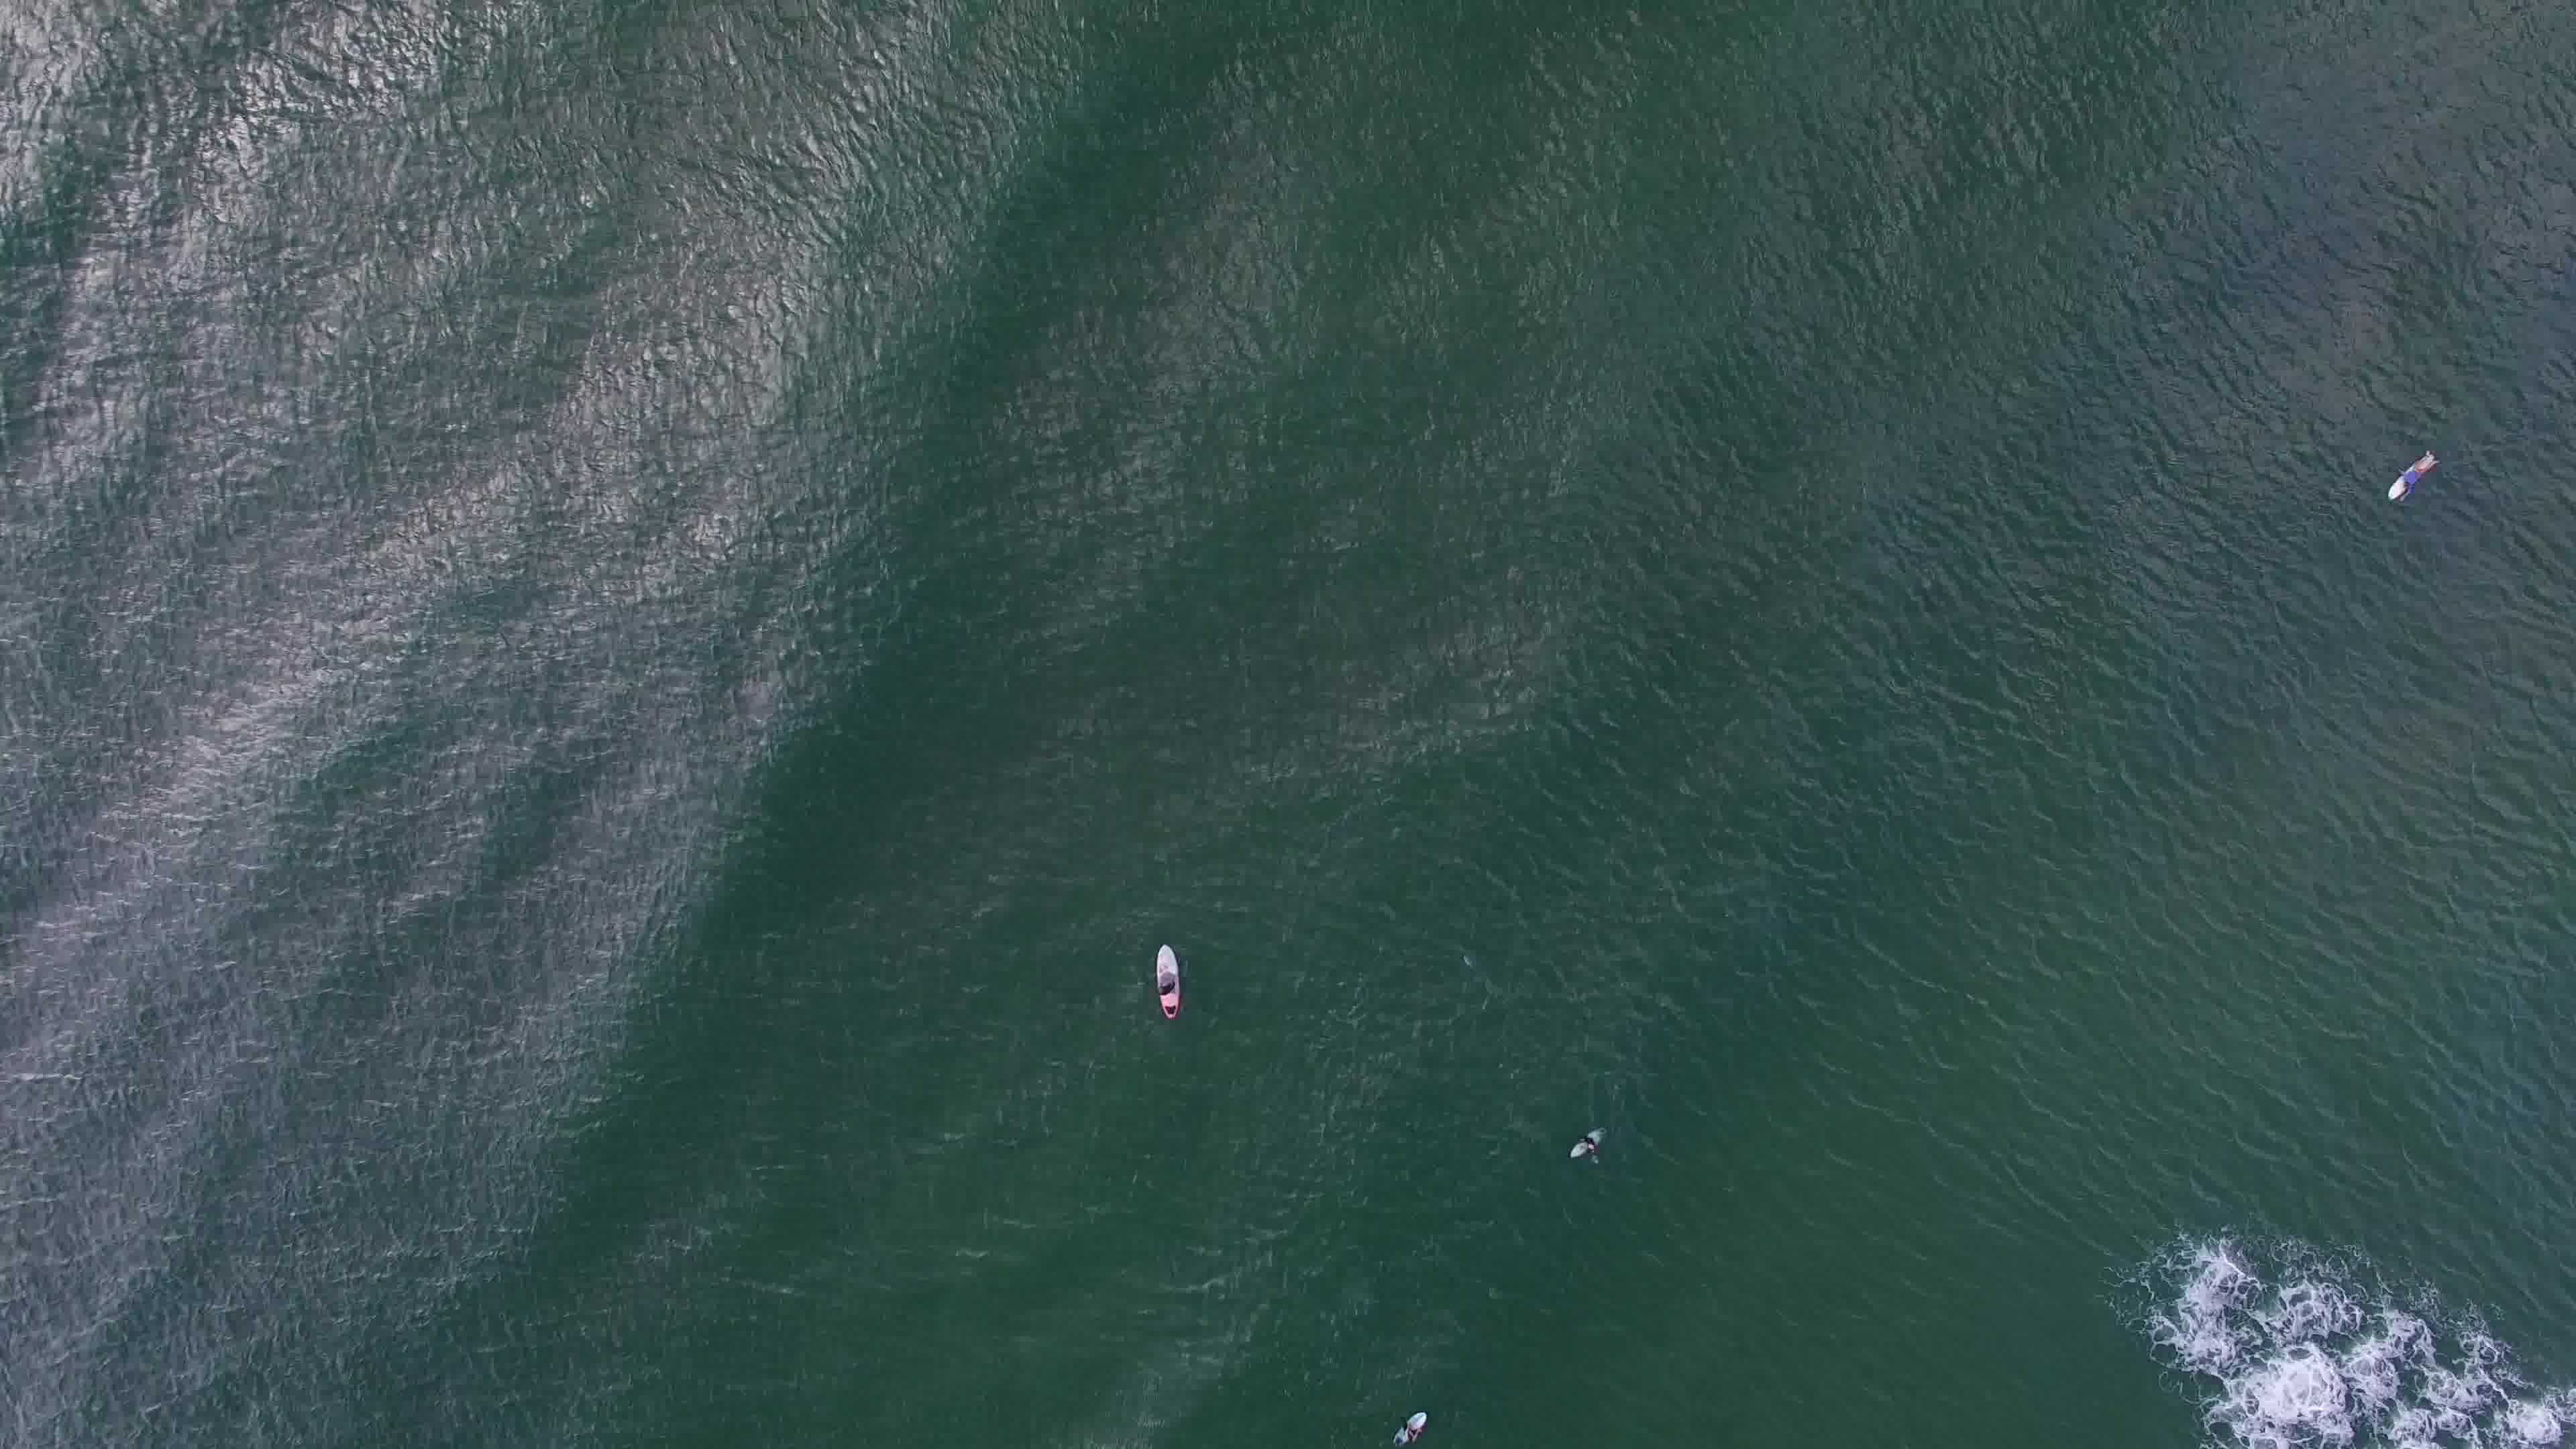surfer: (2380, 441, 2449, 511), (1150, 934, 1189, 1024), (1562, 1120, 1614, 1169), (1380, 1401, 1431, 1449)
